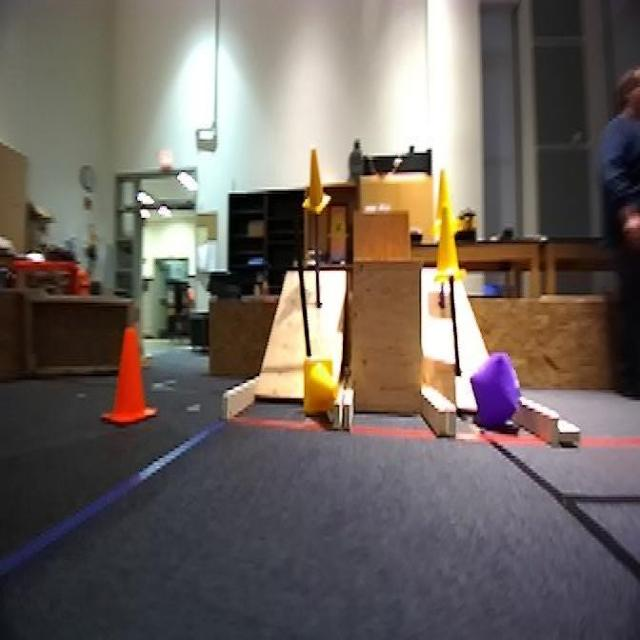frc_cone: (302, 358, 348, 420), (436, 210, 467, 278), (303, 150, 332, 214), (436, 170, 458, 237)
frc_cube: (472, 352, 517, 426)
